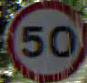Speed limit: (7, 1, 86, 80)
